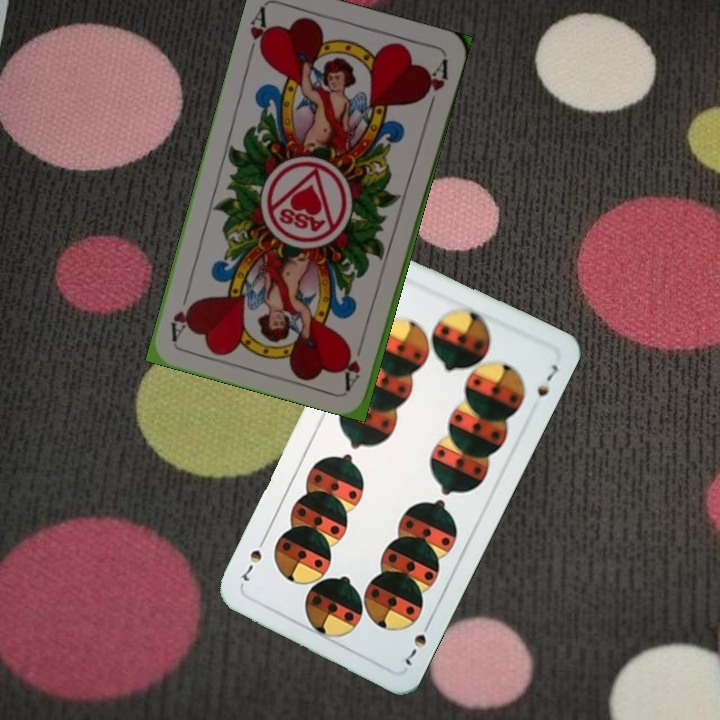HA: (243, 3, 274, 62), (340, 333, 368, 391)
S7: (400, 616, 434, 669)
